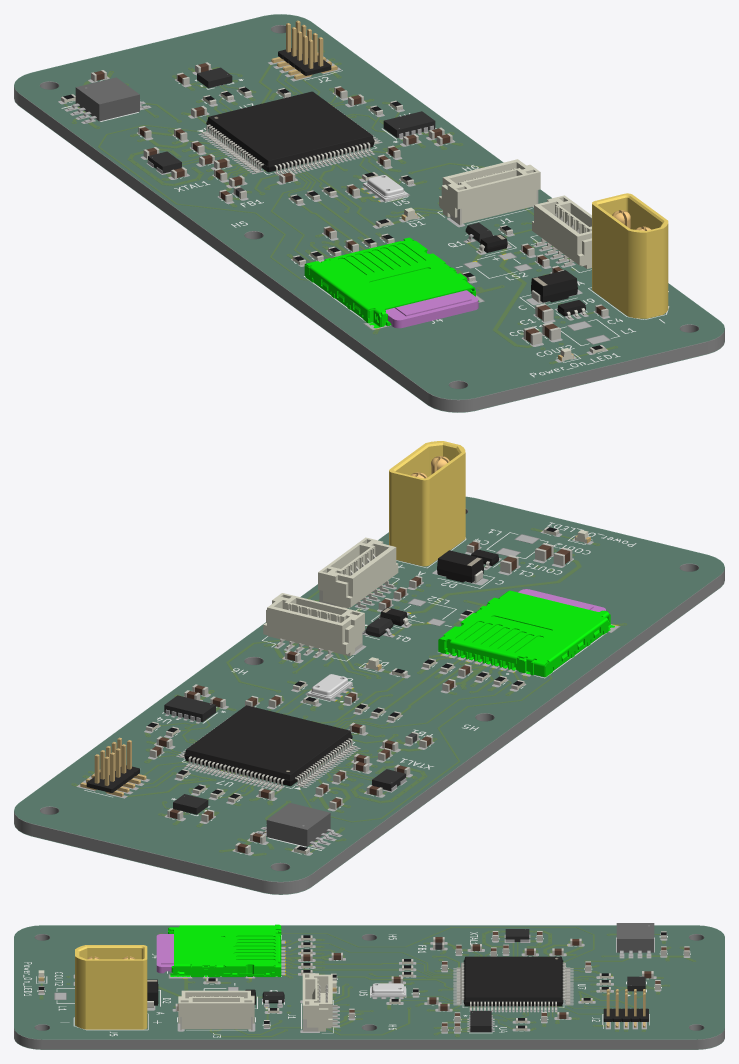
The model's file is DAQ-V4.1-web.glb.
3 views of the same model, one above another, from view 1: azimuth 30°, elevation 25°; view 2: azimuth 150°, elevation 25°; view 3: azimuth 270°, elevation 25° (orthographic). The views are drawn at different scales.
Visible parts, largest first — view 1: =>[0:1:1:27], =>[0:1:1:28], J3, D3, J5, DM3BT, D2, =>[0:1:1:24], =>[0:1:1:23], Q1, =>[0:1:1:26], C35 (+6 smaller); view 2: =>[0:1:1:27], =>[0:1:1:28], J3, DM3BT, D3, J5, D2, =>[0:1:1:24], =>[0:1:1:23], Q1, C35, =>[0:1:1:26] (+5 smaller); view 3: =>[0:1:1:27], =>[0:1:1:28], J5, J3, DM3BT, D3, =>[0:1:1:24], D2, =>[0:1:1:23], =>[0:1:1:26], Q1, IC1 (+6 smaller).
Boxes of the visible parts, left/top/right/bottom form: =>[0:1:1:27]: left=14, top=14, right=724, bottom=412; =>[0:1:1:28]: left=14, top=15, right=724, bottom=412; J3: left=201, top=124, right=591, bottom=318; D3: left=206, top=91, right=585, bottom=316; J5: left=592, top=193, right=668, bottom=318; DM3BT: left=304, top=237, right=479, bottom=328; D2: left=61, top=48, right=608, bottom=353; =>[0:1:1:24]: left=58, top=52, right=609, bottom=362; =>[0:1:1:23]: left=64, top=51, right=617, bottom=363; Q1: left=67, top=67, right=493, bottom=242; =>[0:1:1:26]: left=61, top=70, right=669, bottom=377; C35: left=94, top=63, right=605, bottom=342; =>[0:1:1:27]: left=14, top=496, right=724, bottom=894; =>[0:1:1:28]: left=14, top=497, right=724, bottom=894; J3: left=179, top=537, right=499, bottom=789; DM3BT: left=438, top=590, right=614, bottom=677; D3: left=184, top=549, right=498, bottom=786; J5: left=389, top=441, right=465, bottom=566; D2: left=86, top=527, right=572, bottom=854; =>[0:1:1:24]: left=76, top=530, right=619, bottom=855; =>[0:1:1:23]: left=72, top=528, right=626, bottom=855; Q1: left=164, top=617, right=406, bottom=848; C35: left=152, top=541, right=569, bottom=853; =>[0:1:1:26]: left=84, top=522, right=636, bottom=854; =>[0:1:1:27]: left=14, top=925, right=724, bottom=1049; =>[0:1:1:28]: left=14, top=926, right=724, bottom=1049; J5: left=75, top=945, right=147, bottom=1029; J3: left=178, top=962, right=570, bottom=1031; DM3BT: left=168, top=924, right=281, bottom=977; D3: left=245, top=956, right=563, bottom=1006; =>[0:1:1:24]: left=38, top=933, right=690, bottom=1033; D2: left=38, top=931, right=689, bottom=1032; =>[0:1:1:23]: left=40, top=927, right=695, bottom=1036; =>[0:1:1:26]: left=23, top=932, right=690, bottom=1037; Q1: left=262, top=925, right=650, bottom=1032; IC1: left=616, top=923, right=654, bottom=952.
Bounding box in the file's own units: 0.038 × 0.0127 × 0.1.
